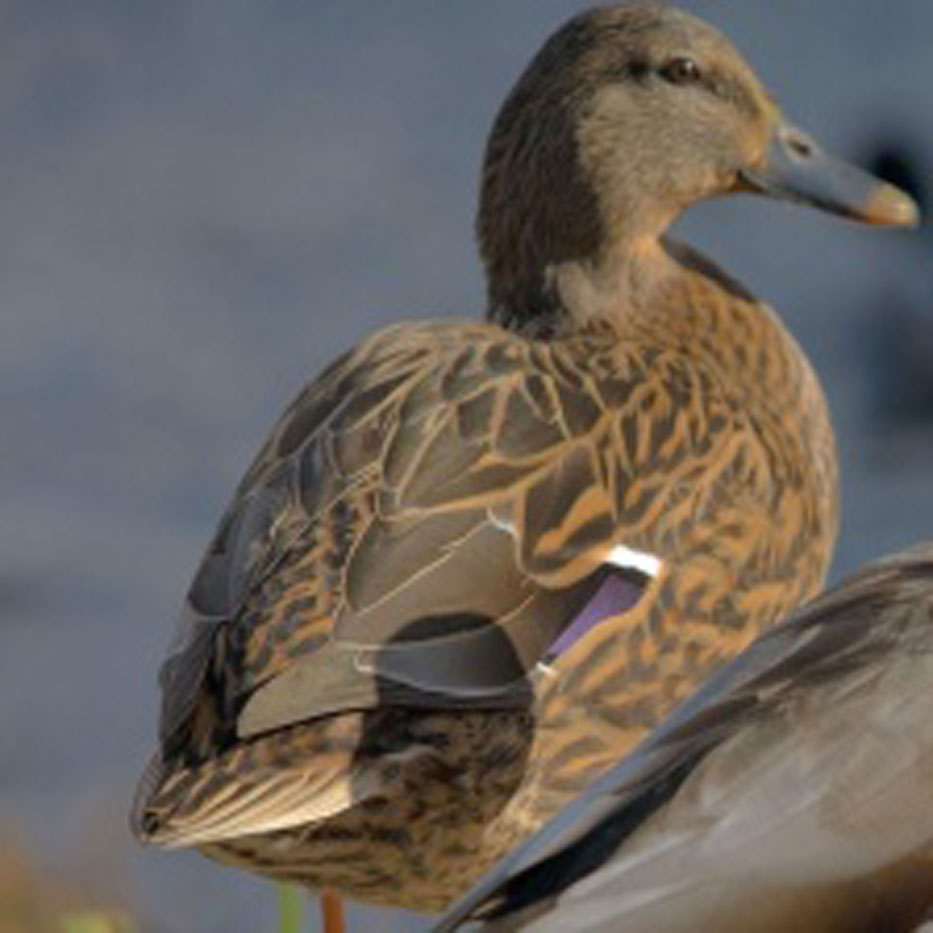Mencari Makan di Lumpur: (743, 99, 933, 242)
